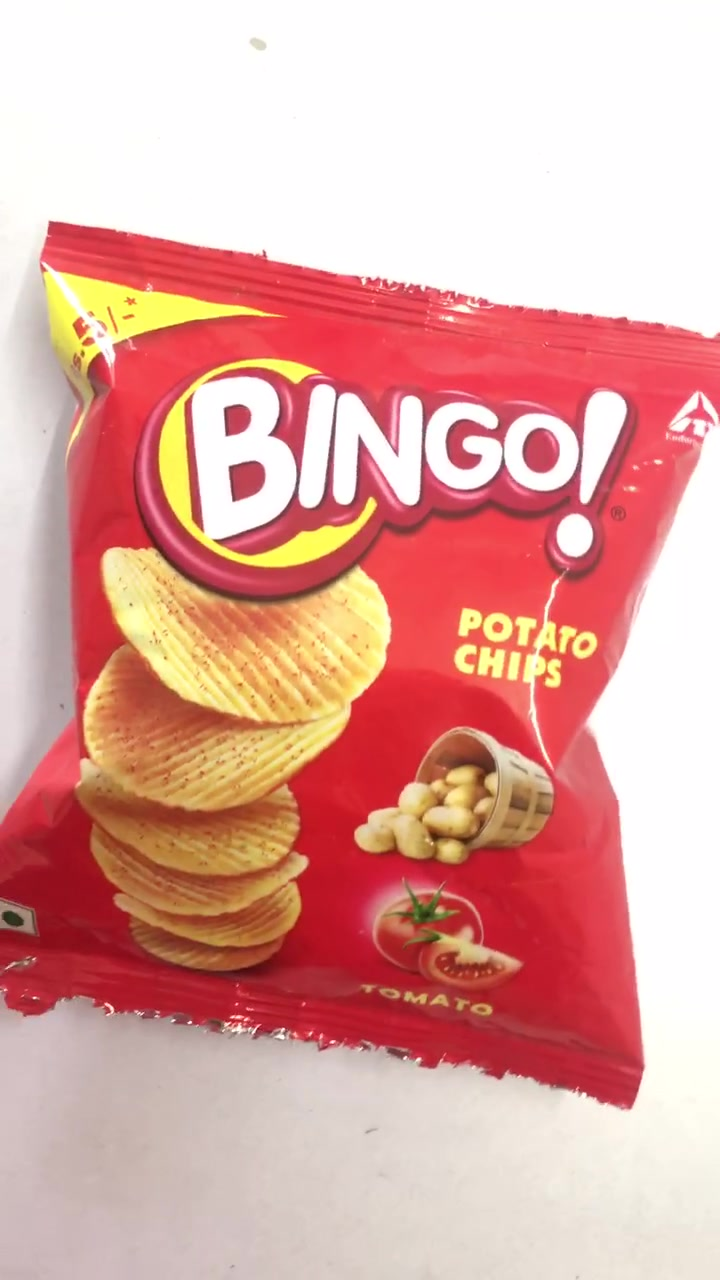Bingo: (8, 221, 720, 1112)
